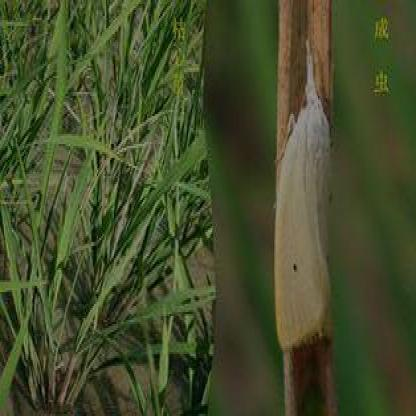stem-borer: (273, 38, 336, 354)
